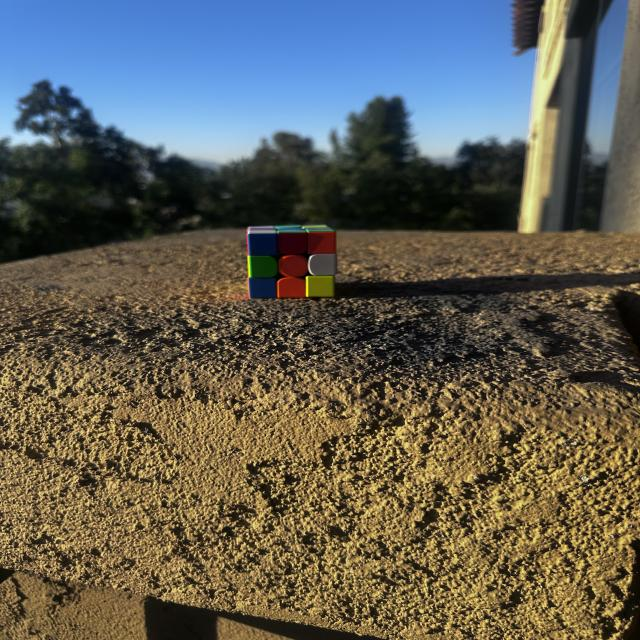sticker: (277, 254, 311, 279), (246, 233, 281, 256), (307, 231, 339, 255), (246, 256, 279, 278), (308, 254, 339, 277), (277, 232, 308, 254), (276, 277, 307, 299), (246, 278, 280, 298), (305, 276, 337, 297)
